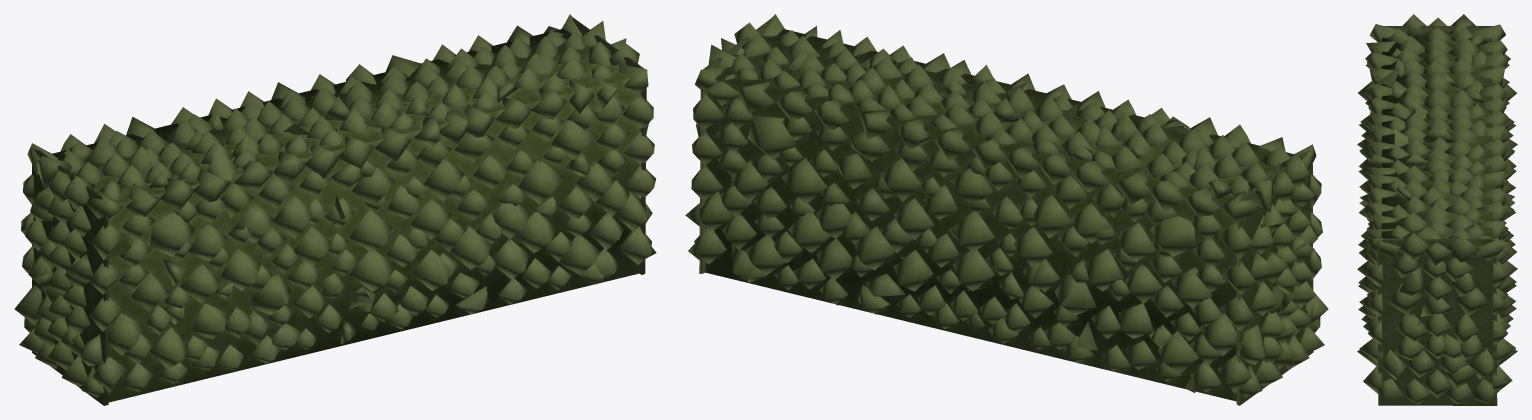
The model's file is prop_hedge.glb.
3 views of the same model, side by side, from view 1: azimuth 30°, elevation 25°; view 2: azimuth 150°, elevation 25°; view 3: azimuth 270°, elevation 25° (orthographic). The views are drawn at different scales.
Visible parts, largest first — view 1: PropHedgeMesh; view 2: PropHedgeMesh; view 3: PropHedgeMesh.
Boxes of the visible parts, x1=… form: PropHedgeMesh: x1=14, y1=14, x2=656, y2=405; PropHedgeMesh: x1=685, y1=14, x2=1328, y2=405; PropHedgeMesh: x1=1357, y1=14, x2=1517, y2=405.
Bounding box in the file's own units: 2 × 0.7207 × 0.5898.
Materials: 1 (1 with a texture image).
